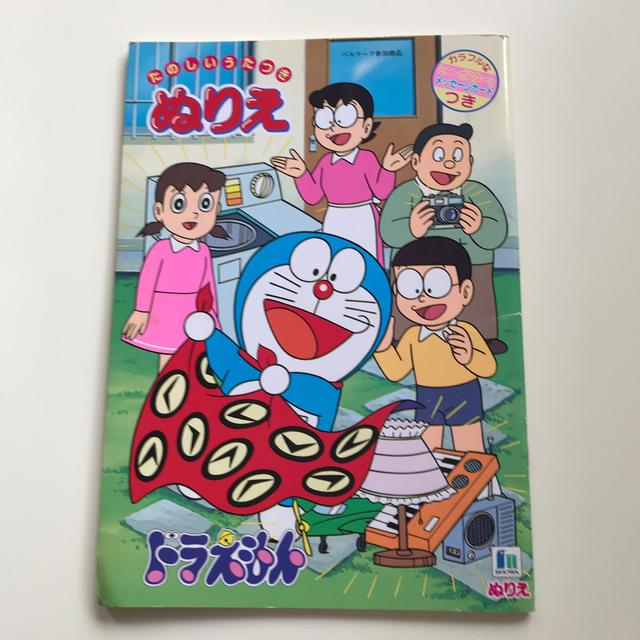doraemon: (228, 229, 395, 392)
nobita: (387, 232, 475, 334)
shizuka: (134, 161, 239, 249)
